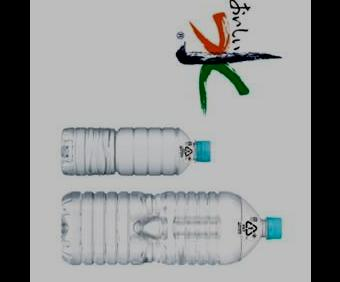bottle: (59, 190, 281, 267), (60, 119, 210, 182)
